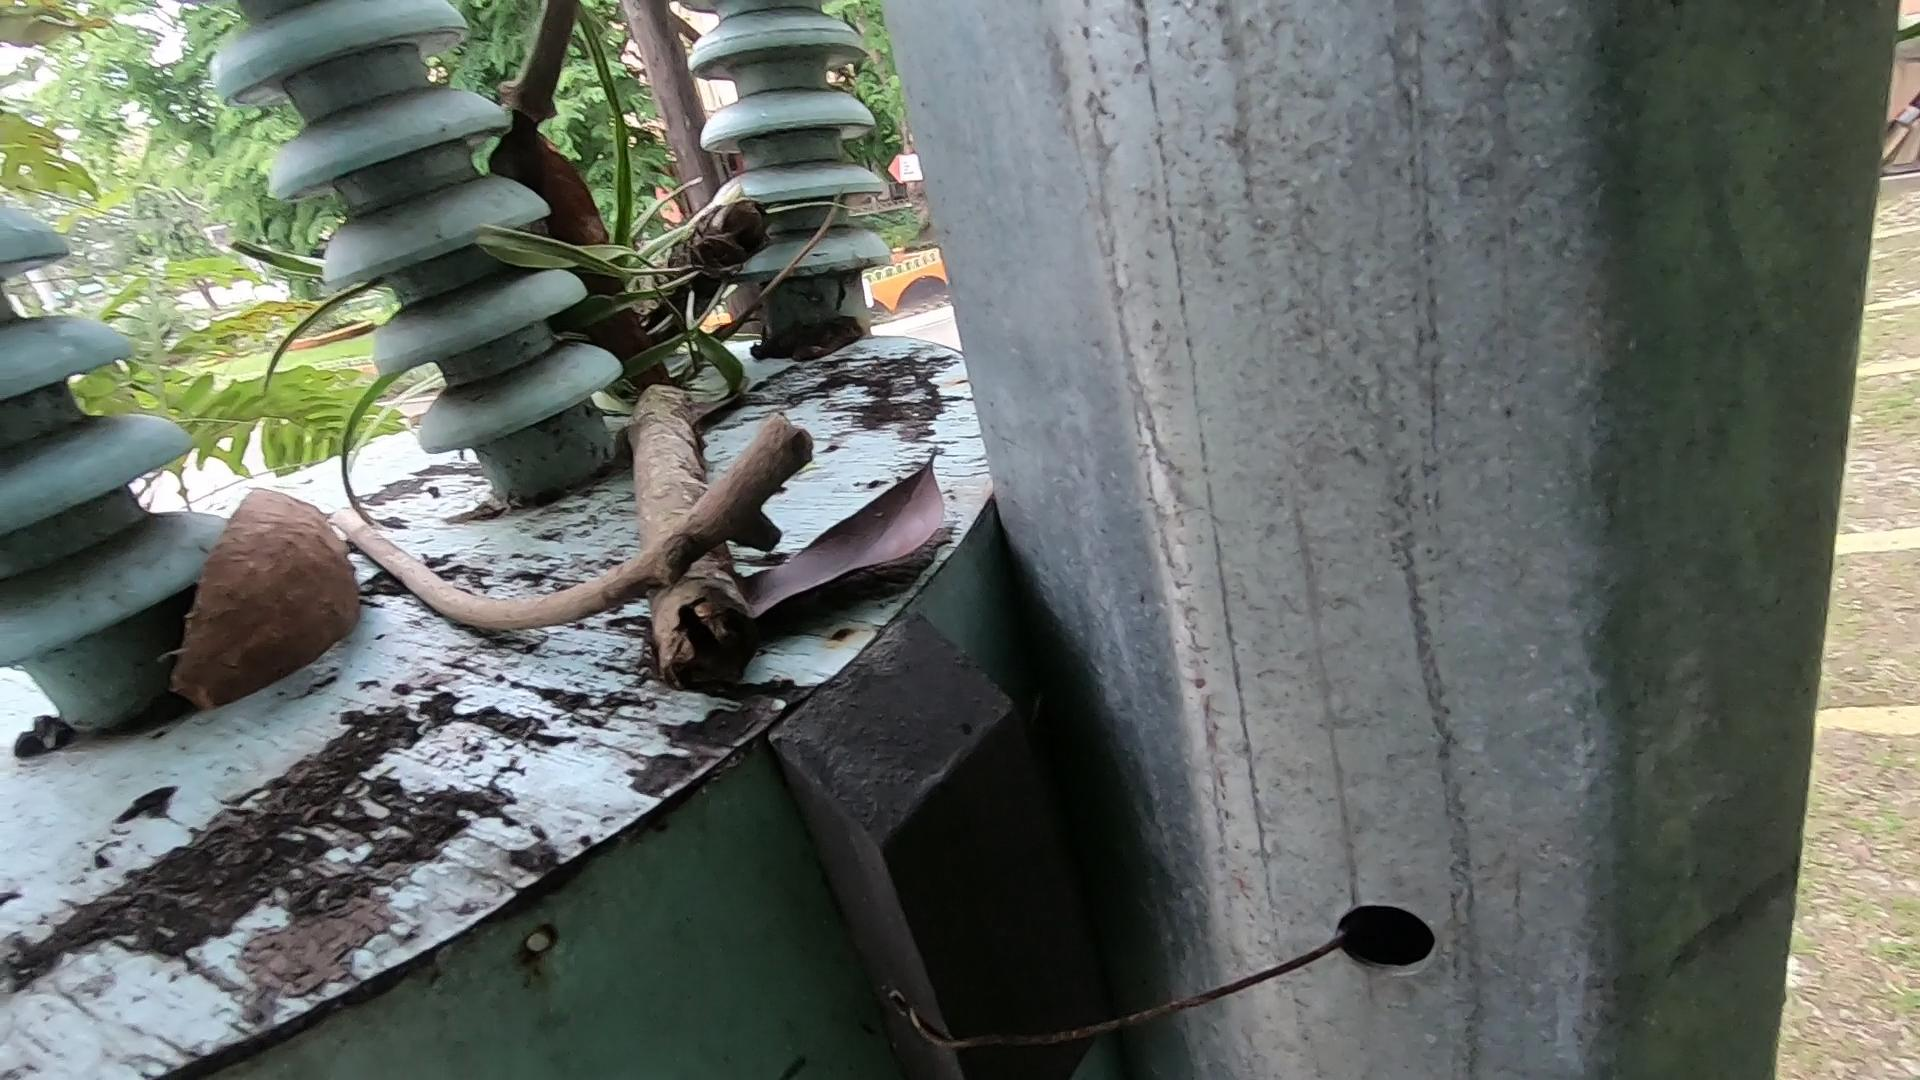branch with leaves: (526, 74, 901, 773)
leaf: (680, 444, 920, 663)
mahogany fruit: (489, 132, 771, 467), (133, 462, 414, 719)
tree branch: (285, 429, 887, 789), (465, 1, 583, 185)
